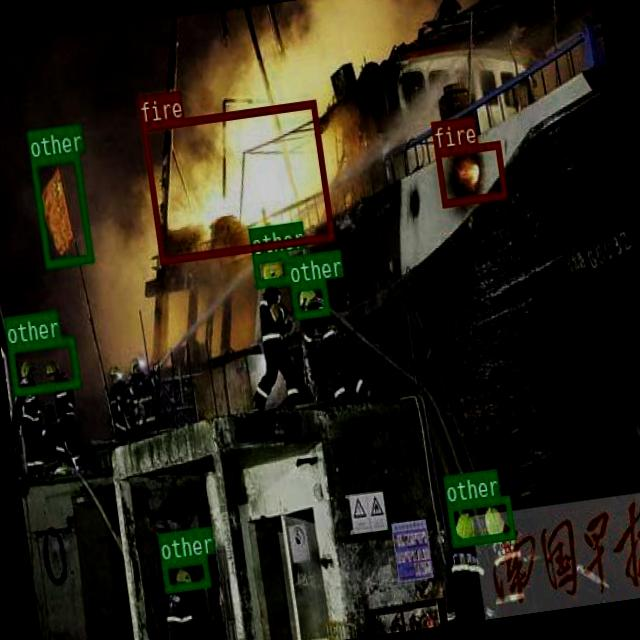fire: (140, 98, 334, 262), (434, 140, 506, 206)
